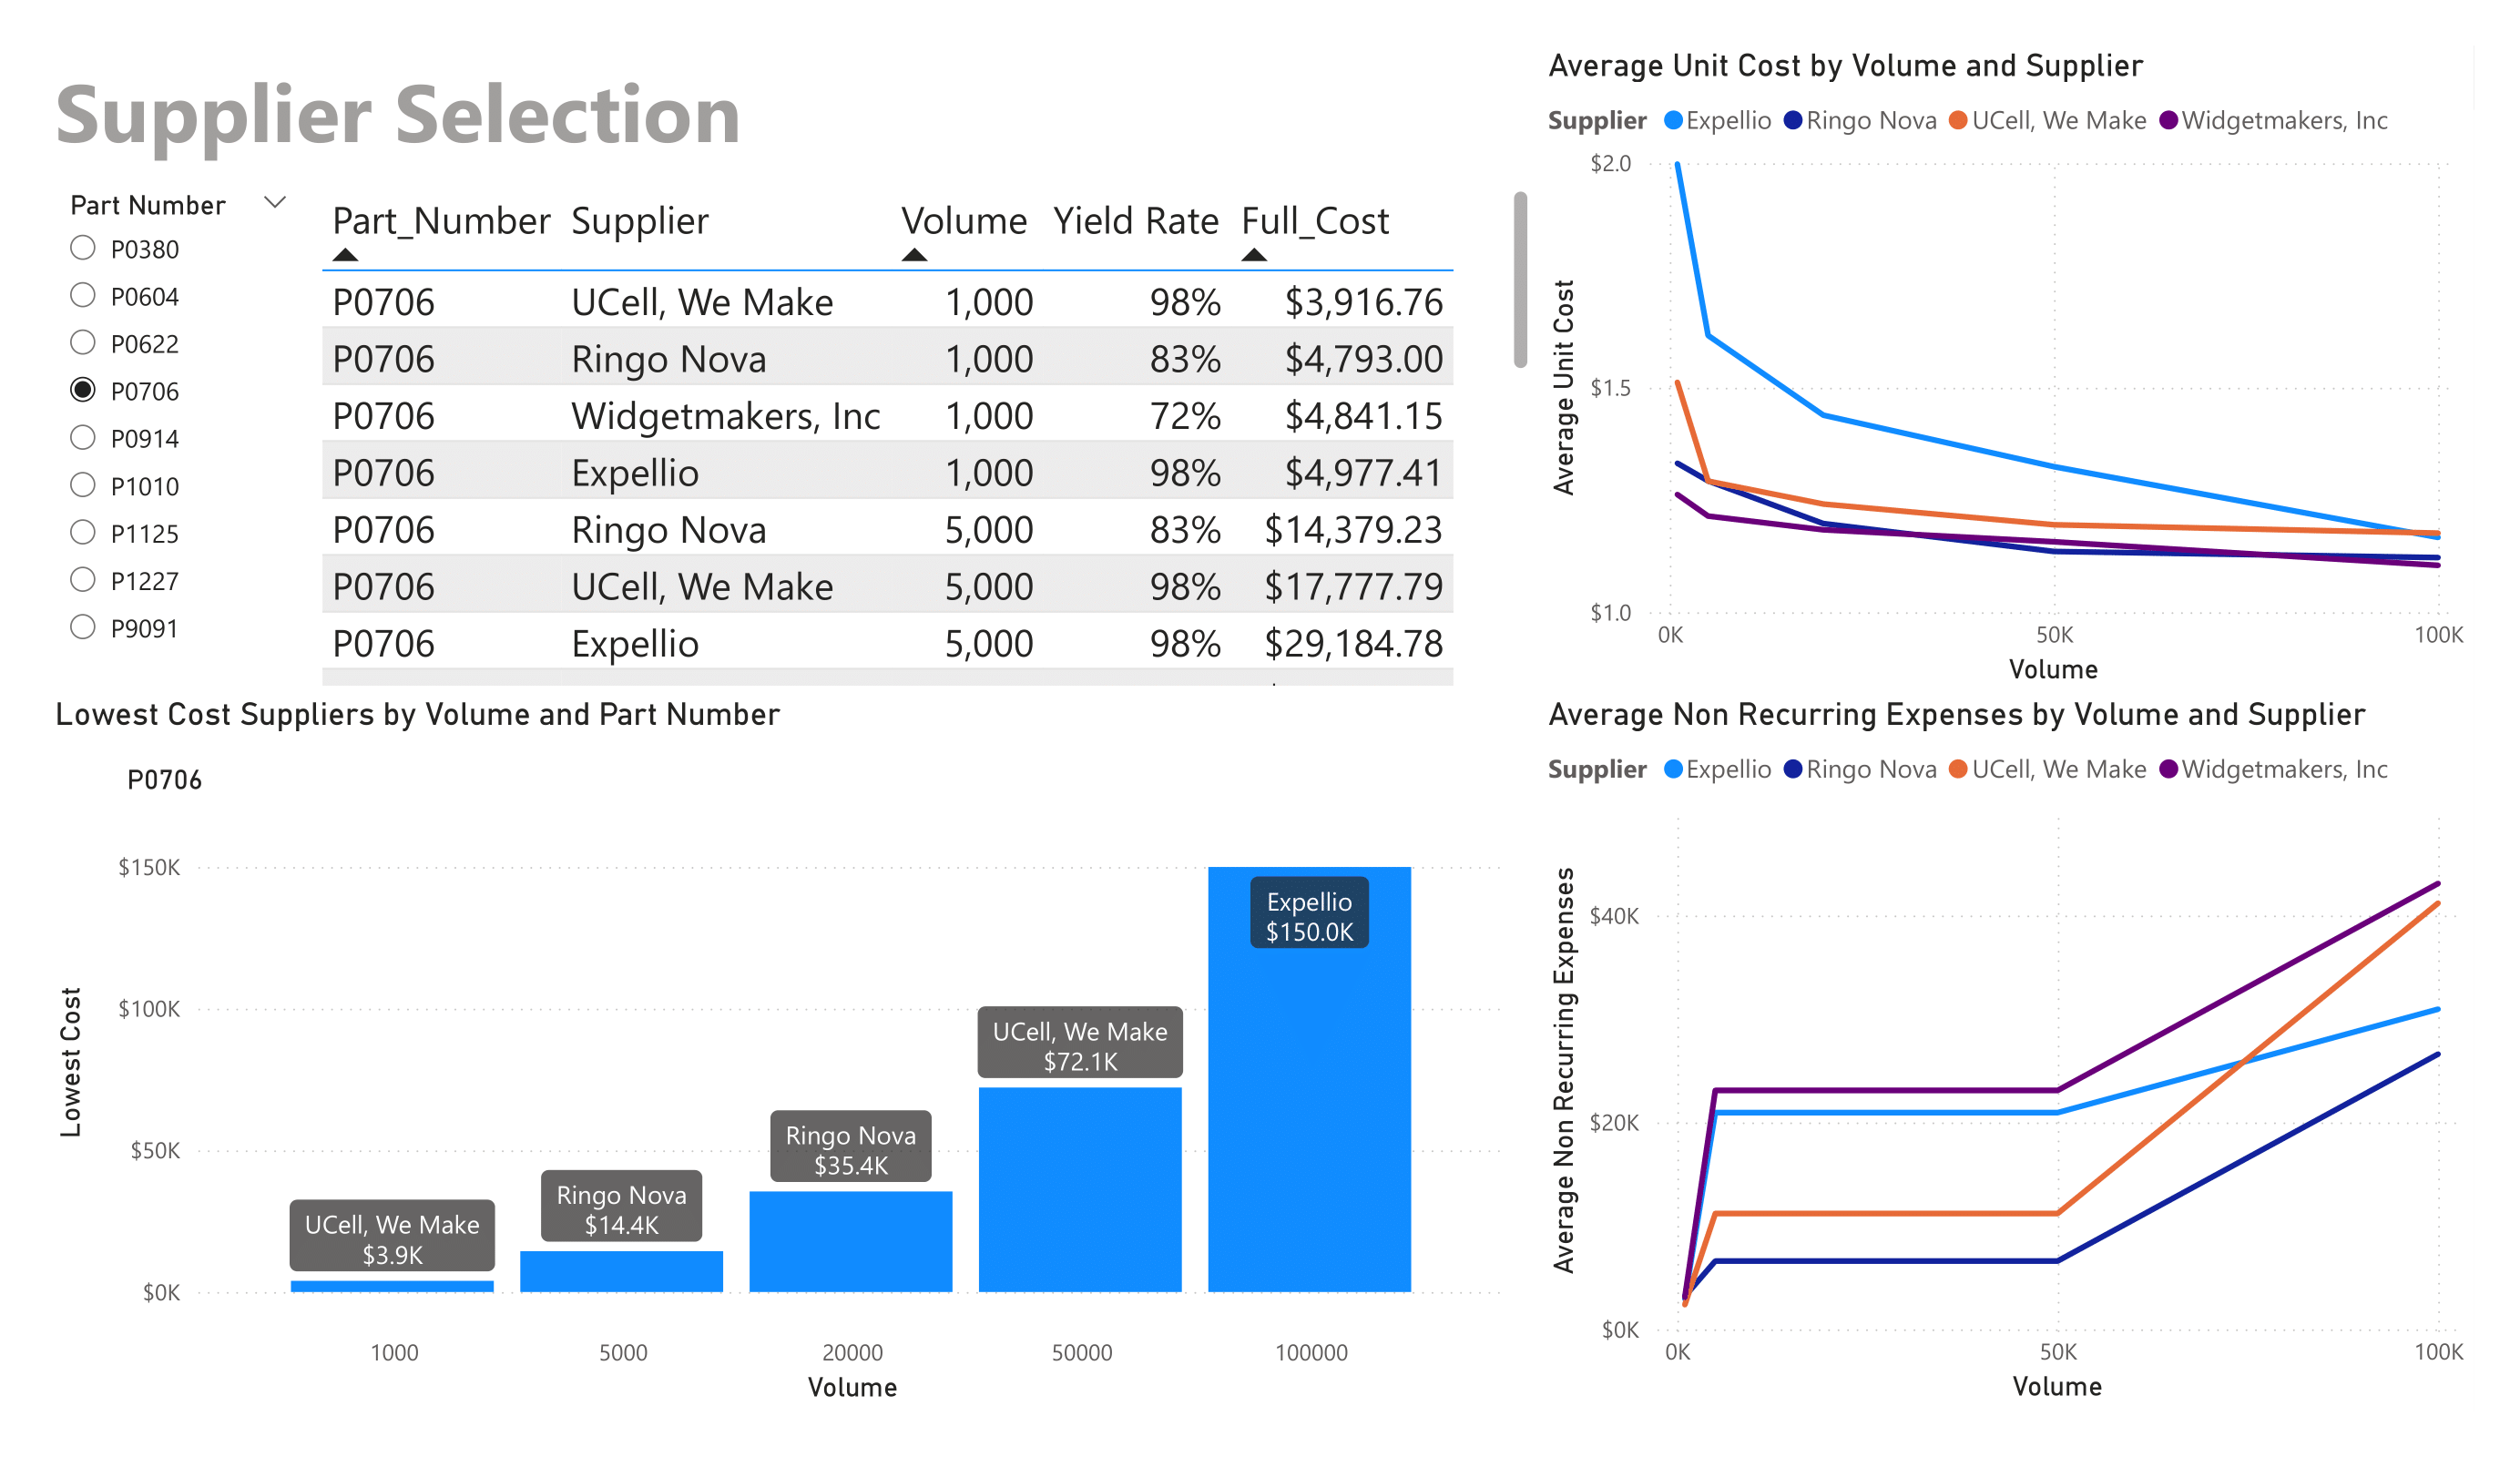

What the dashboard file says about the page in this screenshot:
{"tool":"powerbi","page":{"name":"Supplier Selection","canvas":[1280,720],"ordinal":0},"visuals":[{"type":"tableEx","fields":{"Values":["Quotes.Part_Number","Quotes.Supplier","Quotes.Volume","Quotes.Yield Rate","Quotes.Full_Cost"]},"box":[139.7,70.7,647.8,271.7],"z":0},{"type":"slicer","fields":{"Values":["Product_Dimension.Part_Number"]},"box":[0,70.7,139.7,271.7],"z":1000},{"type":"lineChart","title":"Average Unit Cost by Volume and Supplier","fields":{"Category":["Quotes.Volume"],"Y":["Avg(Quotes.Unit_Cost)"],"Series":["Quotes.Supplier"]},"box":[787.5,0,492.5,342],"z":2000},{"type":"lineChart","title":"Average Non Recurring Expenses by Volume and Supplier","fields":{"Series":["Quotes.Supplier"],"Y":["Avg(Quotes.Non_recurring_expenses)"],"Category":["Quotes.Volume"]},"box":[787.5,342.4,492.5,377.8],"z":3000},{"type":"columnChart","title":"Lowest Cost Suppliers by Volume and Part Number","fields":{"Category":["Quotes.Volume"],"Y":["Min(Quotes.Full_Cost)"],"Rows":["Quotes.Part_Number"]},"box":[0,342.4,787.5,377.8],"z":4000},{"type":"textbox","box":[0,0,403.7,70.7],"z":5000}]}

Visuals, with their boxes on the page's 1280x720 design canvas (x1, y1, x2, y2). These are canvas units, not pixel positions in the 2520x1457 screenshot, which may show the page scaled, cropped or inside an application window:
tableEx - Quotes.Part_Number x Quotes.Supplier: (140, 71, 788, 342)
slicer - Product_Dimension.Part_Number: (0, 71, 140, 342)
"Average Unit Cost by Volume and Supplier" lineChart: (788, 0, 1280, 342)
"Average Non Recurring Expenses by Volume and Supplier" lineChart: (788, 342, 1280, 720)
"Lowest Cost Suppliers by Volume and Part Number" columnChart: (0, 342, 788, 720)
textbox: (0, 0, 404, 71)
